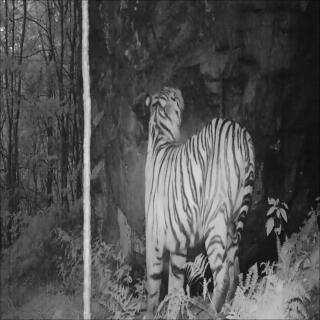Tiger: (134, 71, 268, 319)
